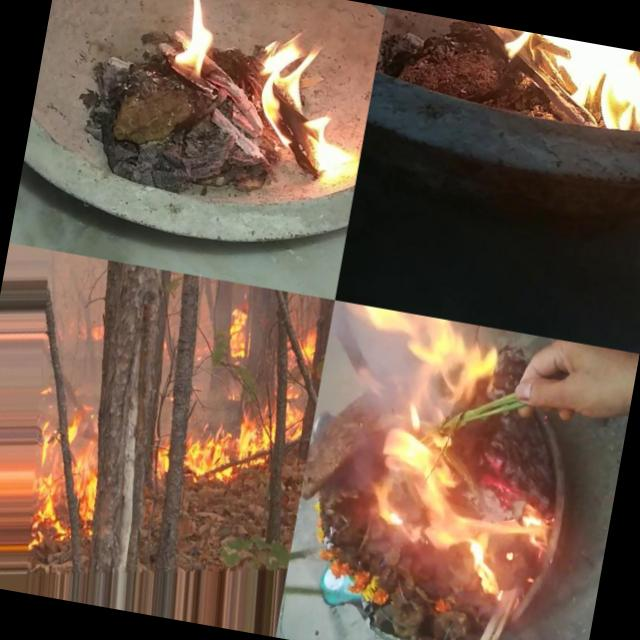fire: (442, 19, 640, 140), (240, 22, 380, 184), (158, 386, 276, 492), (54, 391, 116, 528), (369, 548, 457, 640), (270, 317, 325, 451), (159, 0, 231, 89), (214, 298, 258, 369)
smoke: (284, 358, 416, 598), (388, 373, 488, 557)
